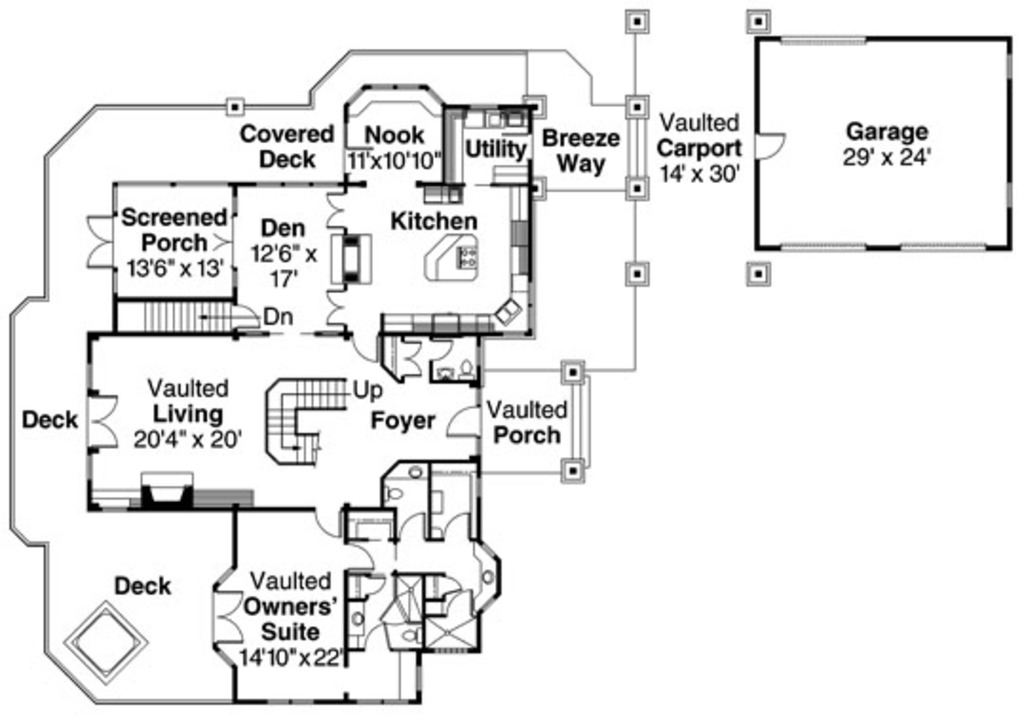door: (80, 388, 130, 455), (79, 213, 133, 274), (210, 586, 251, 651), (439, 401, 490, 443), (751, 116, 793, 166), (320, 285, 360, 331), (321, 185, 358, 229), (308, 504, 346, 544), (339, 540, 380, 573), (343, 330, 380, 365), (398, 510, 430, 544), (398, 337, 421, 383), (365, 619, 392, 656), (355, 568, 386, 599), (442, 509, 472, 539), (447, 593, 473, 616), (432, 337, 455, 360)
kitchen_bar: (411, 211, 487, 287)
large_sink: (395, 620, 432, 655), (451, 356, 482, 383), (382, 484, 403, 504)
small_sink: (345, 605, 371, 636)
stairs: (253, 367, 373, 468), (109, 293, 237, 341)
twin_sink: (488, 289, 538, 334)
window: (779, 239, 880, 258), (772, 30, 870, 49), (897, 239, 992, 255), (1002, 169, 1019, 211), (1005, 48, 1019, 79)
